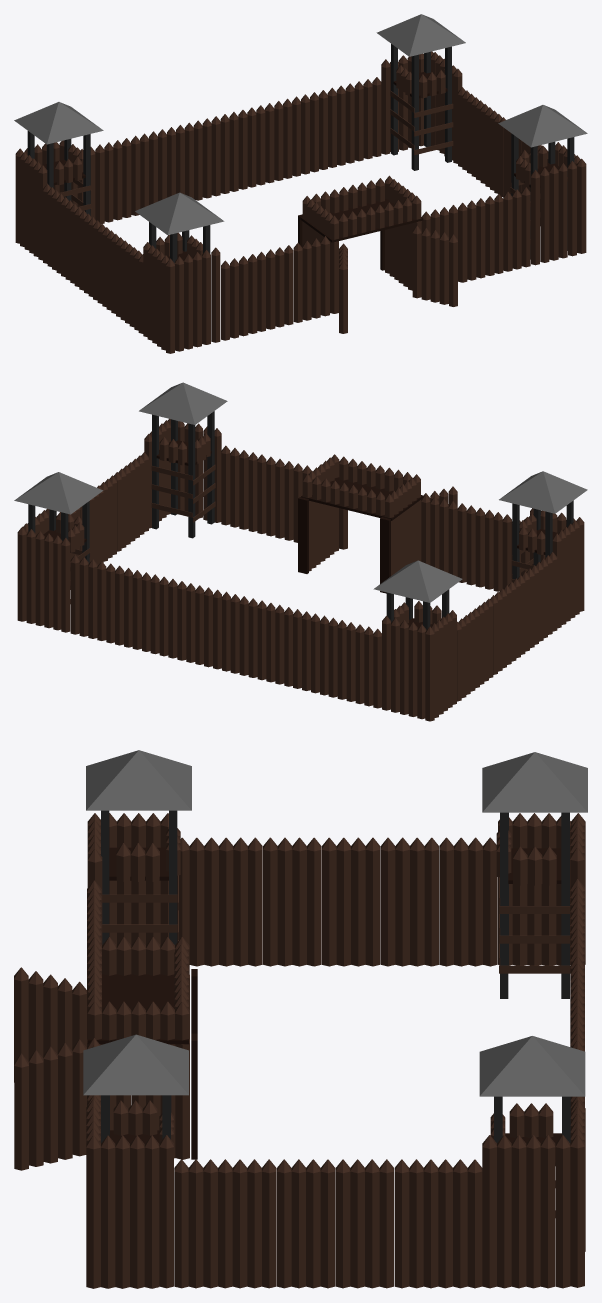
The model's file is DOG_Base 1.FBX.
3 renders of one model, top to bottom at view 1: azimuth 30°, elevation 25°; view 2: azimuth 150°, elevation 25°; view 3: azimuth 270°, elevation 25°, orthographic. The views are drawn at different scales.
Visible parts, largest first — view 1: Cylinder001; view 2: Cylinder001; view 3: Cylinder001.
Boxes of the visible parts, left/top/right/bottom form: Cylinder001: left=14, top=14, right=587, bottom=353; Cylinder001: left=14, top=382, right=587, bottom=721; Cylinder001: left=14, top=750, right=587, bottom=1288.
Bounding box in the file's own units: 185 × 60.18 × 136.
